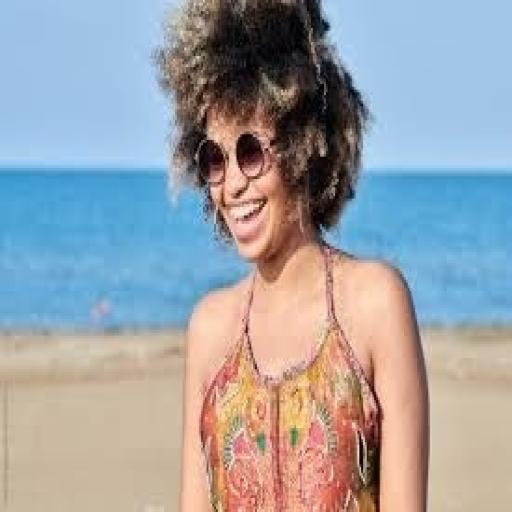laughing: (144, 0, 438, 509)
